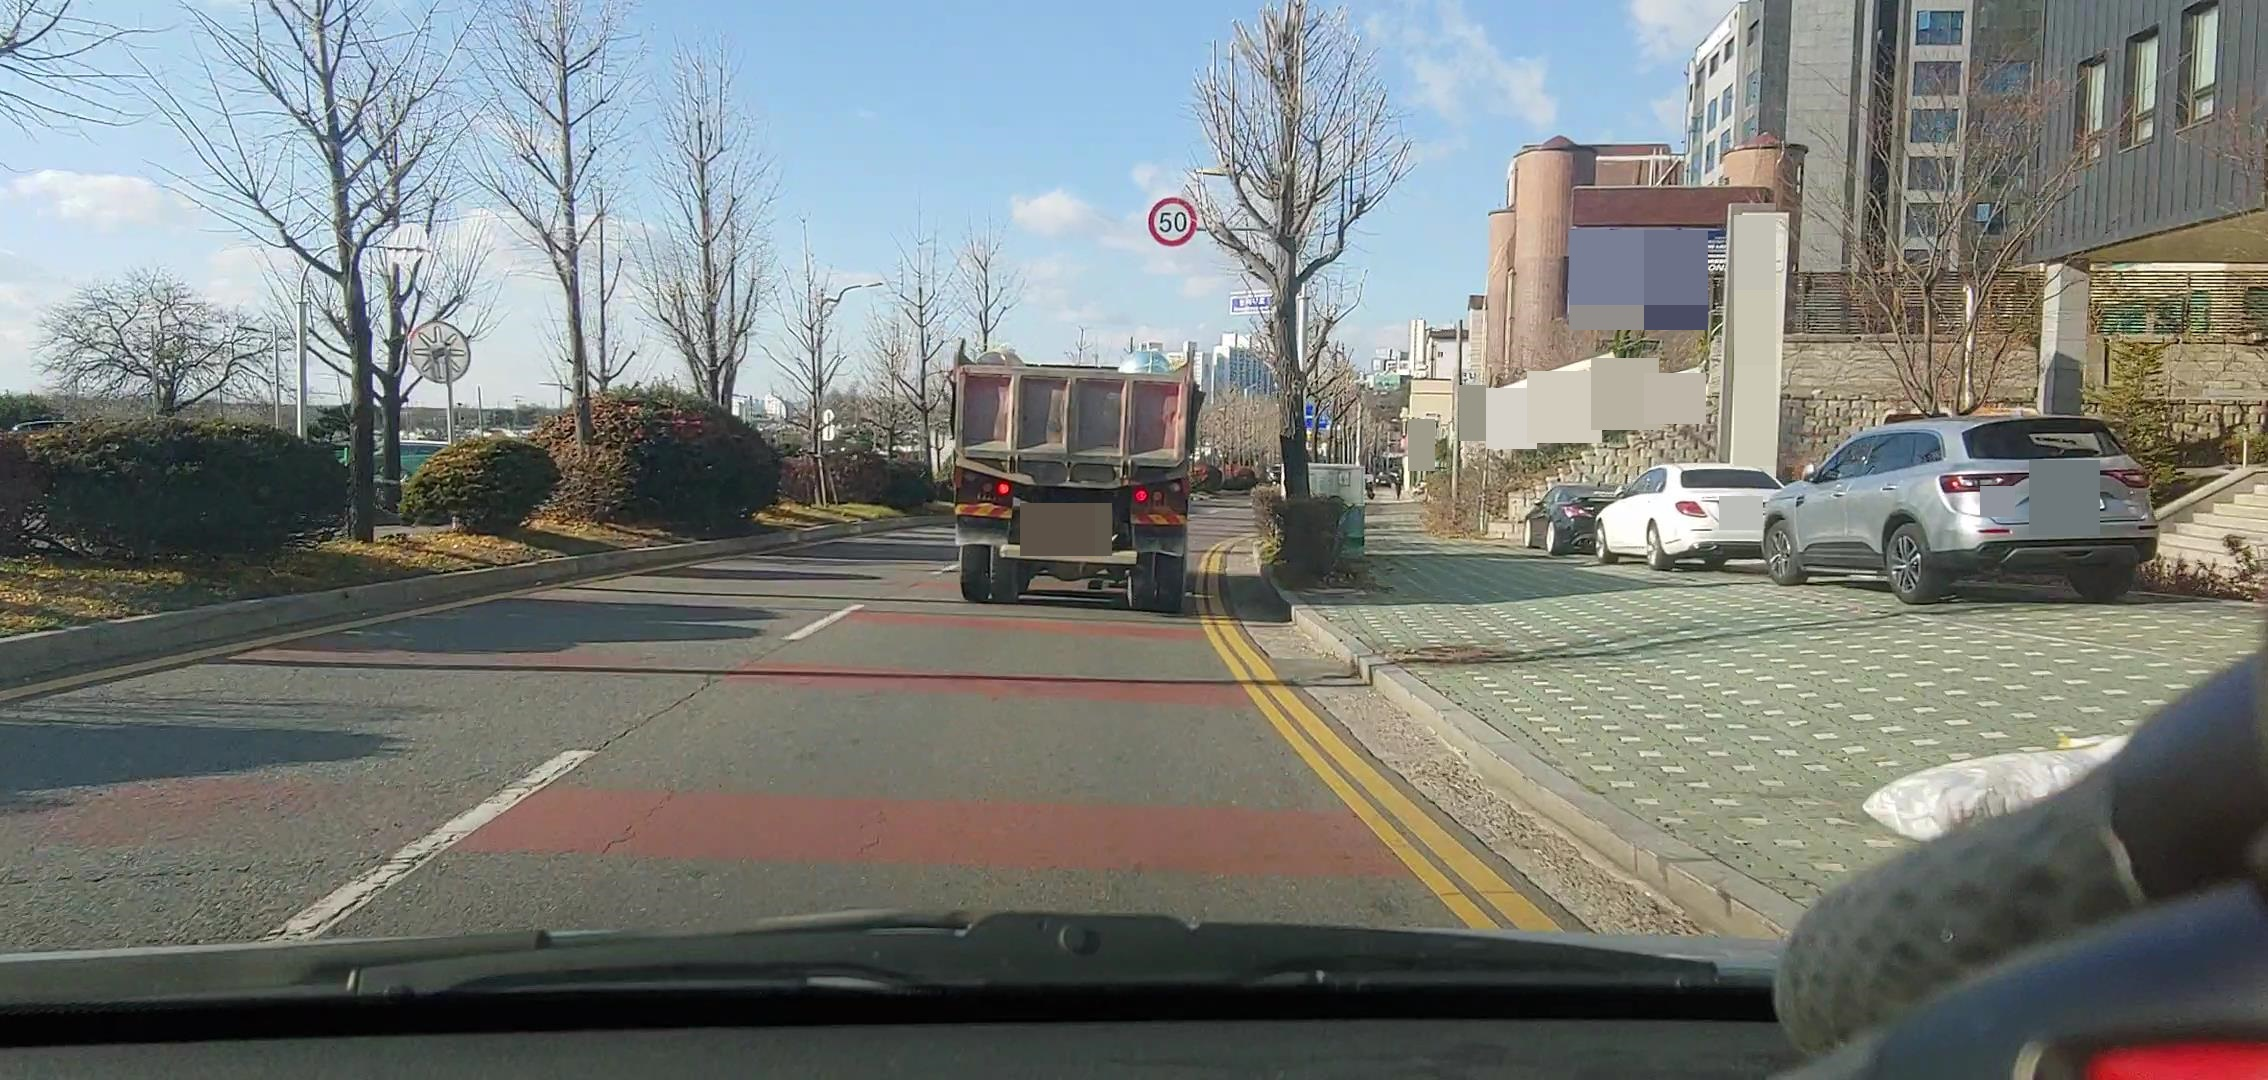불법차량: (947, 337, 1206, 614)
